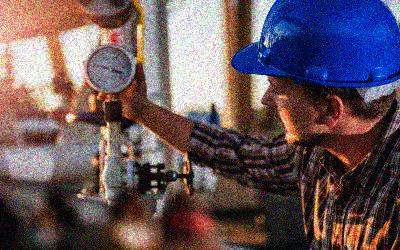helmet: (230, 1, 399, 143)
